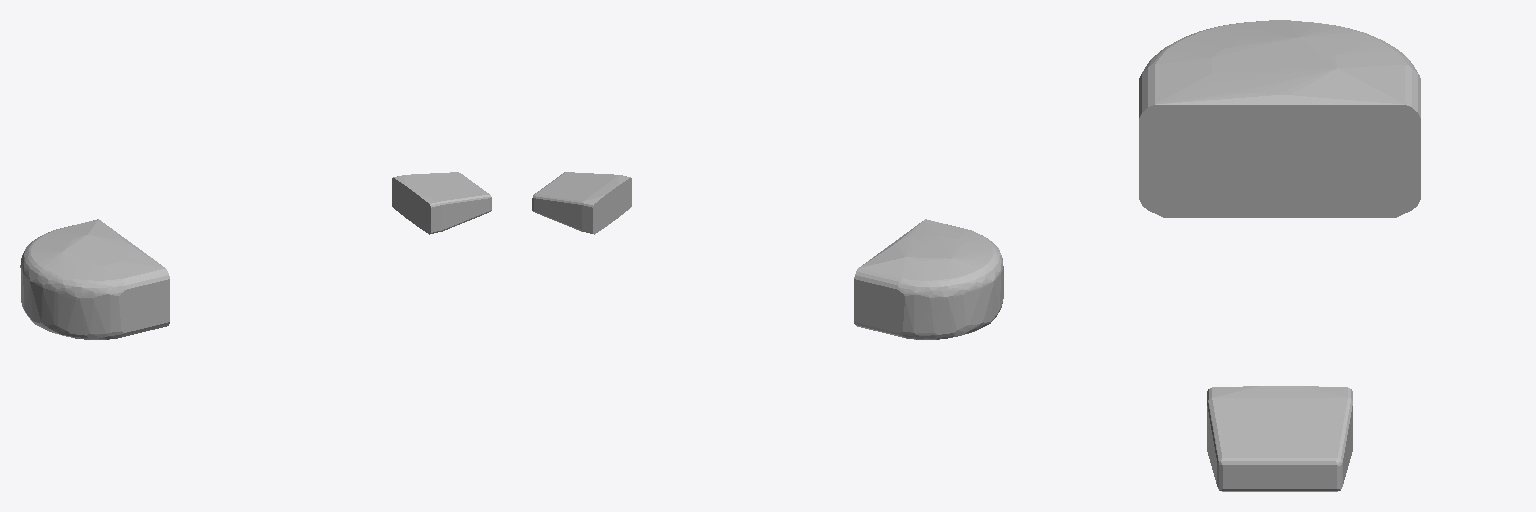
robot.urdf — root:
<robot name="root">
  <link name="link_coacd_convex_piece_0">
    <inertial>
      <origin xyz="0 0 0" rpy="0 0 0"/>
      <inertia ixx="5.35E-05" ixy="-3.48E-07" ixz="7.29E-05" iyy="4.56E-03" iyz="-3.14E-09" izz="4.60E-03"/>
    </inertial>
    <visual>
      <origin xyz="0 0 0" rpy="0 0 0"/>
      <geometry>
        <mesh filename="coacd_convex_piece_0.obj" scale="1.0000E+00 1.0000E+00 1.0000E+00"/>
      </geometry>
      <material name="">
        <color rgba="7.50E-01 7.50E-01 7.50E-01 1"/>
      </material>
    </visual>
    <collision>
      <origin xyz="0 0 0" rpy="0 0 0"/>
      <geometry>
        <mesh filename="coacd_convex_piece_0.obj" scale="1.0000E+00 1.0000E+00 1.0000E+00"/>
      </geometry>
    </collision>
  </link>
  <link name="link_coacd_convex_piece_1">
    <inertial>
      <origin xyz="0 0 0" rpy="0 0 0"/>
      <inertia ixx="4.34E-03" ixy="-1.06E-05" ixz="9.93E-05" iyy="1.57E-02" iyz="-1.35E-07" izz="1.85E-02"/>
    </inertial>
    <visual>
      <origin xyz="0 0 0" rpy="0 0 0"/>
      <geometry>
        <mesh filename="coacd_convex_piece_1.obj" scale="1.0000E+00 1.0000E+00 1.0000E+00"/>
      </geometry>
      <material name="">
        <color rgba="7.50E-01 7.50E-01 7.50E-01 1"/>
      </material>
    </visual>
    <collision>
      <origin xyz="0 0 0" rpy="0 0 0"/>
      <geometry>
        <mesh filename="coacd_convex_piece_1.obj" scale="1.0000E+00 1.0000E+00 1.0000E+00"/>
      </geometry>
    </collision>
  </link>
  <joint name="link_coacd_convex_piece_1_joint" type="fixed">
    <origin xyz="0 0 0" rpy="0 0 0"/>
    <parent link="link_coacd_convex_piece_0"/>
    <child link="link_coacd_convex_piece_1"/>
  </joint>
  <link name="link_coacd_convex_piece_2">
    <inertial>
      <origin xyz="0 0 0" rpy="0 0 0"/>
      <inertia ixx="1.33E-03" ixy="1.12E-05" ixz="-1.86E-04" iyy="2.49E-02" iyz="-3.19E-06" izz="2.57E-02"/>
    </inertial>
    <visual>
      <origin xyz="0 0 0" rpy="0 0 0"/>
      <geometry>
        <mesh filename="coacd_convex_piece_2.obj" scale="1.0000E+00 1.0000E+00 1.0000E+00"/>
      </geometry>
      <material name="">
        <color rgba="7.50E-01 7.50E-01 7.50E-01 1"/>
      </material>
    </visual>
    <collision>
      <origin xyz="0 0 0" rpy="0 0 0"/>
      <geometry>
        <mesh filename="coacd_convex_piece_2.obj" scale="1.0000E+00 1.0000E+00 1.0000E+00"/>
      </geometry>
    </collision>
  </link>
  <joint name="link_coacd_convex_piece_2_joint" type="fixed">
    <origin xyz="0 0 0" rpy="0 0 0"/>
    <parent link="link_coacd_convex_piece_1"/>
    <child link="link_coacd_convex_piece_2"/>
  </joint>
</robot>

--- Render facts (derived) ---
Views: 3 orthographic renders of the robot side by side, from view 1: azimuth 30°, elevation 25°; view 2: azimuth 150°, elevation 25°; view 3: azimuth 270°, elevation 25°.
Robot: root — 3 links, 2 joints (2 fixed); root link link_coacd_convex_piece_0; default pose: all joints at 0.
Links seen in each view (by area): view 1: link_coacd_convex_piece_2, link_coacd_convex_piece_0; view 2: link_coacd_convex_piece_2, link_coacd_convex_piece_0; view 3: link_coacd_convex_piece_2, link_coacd_convex_piece_0.
Boxes of the visible links, left/top/right/bottom form: link_coacd_convex_piece_2: left=20, top=219, right=169, bottom=339; link_coacd_convex_piece_0: left=392, top=172, right=491, bottom=234; link_coacd_convex_piece_2: left=854, top=219, right=1003, bottom=339; link_coacd_convex_piece_0: left=532, top=172, right=631, bottom=234; link_coacd_convex_piece_2: left=1139, top=20, right=1420, bottom=217; link_coacd_convex_piece_0: left=1207, top=386, right=1352, bottom=491.
Size in the robot's own frame: 1.94 by 0.5708 by 0.2748 metres.
2 mesh visuals loaded from 3 distinct referenced files (2 OBJ); not drawn: 1 (reference not matched to a file when rendering).